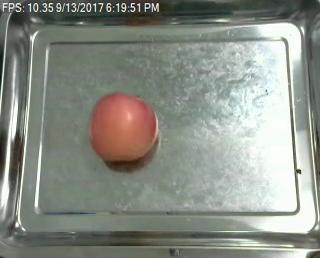apple: (87, 92, 160, 166)
